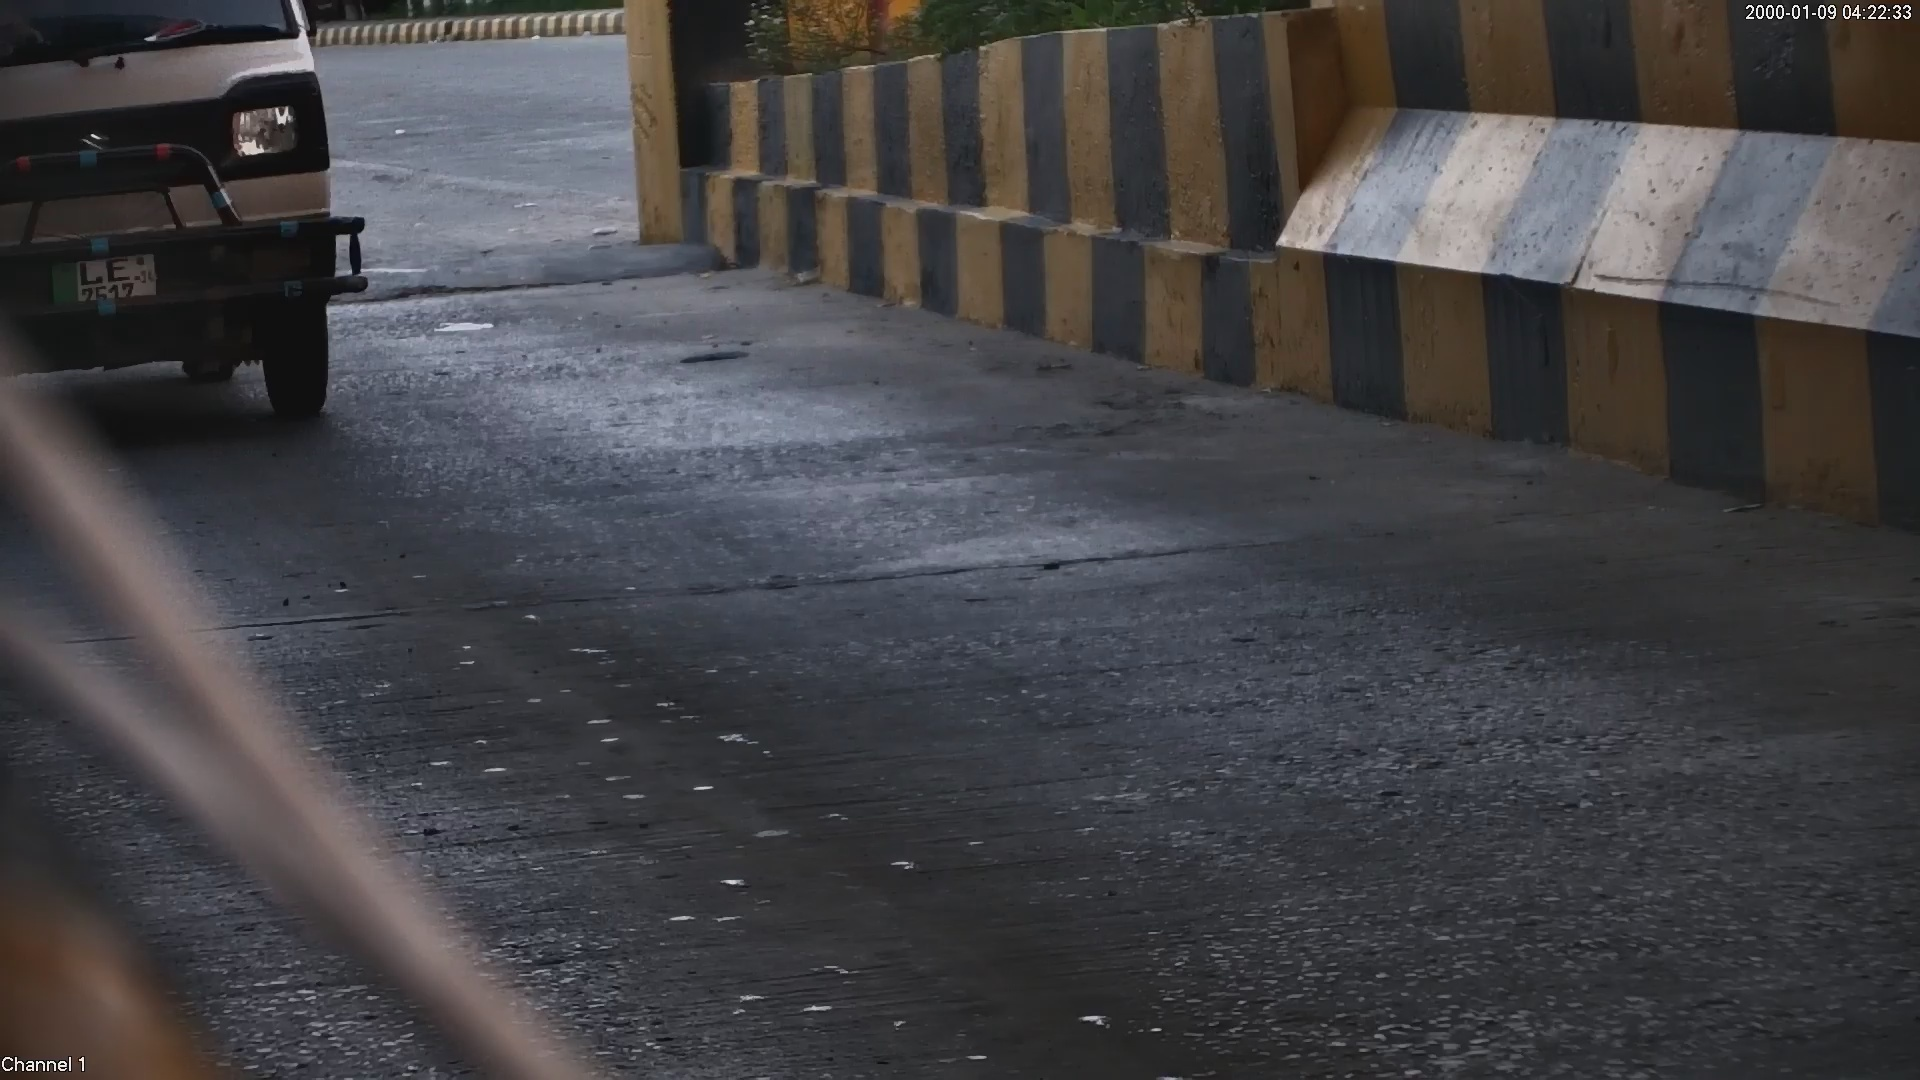Number_Plate: (34, 242, 182, 316)
Undefined: (208, 81, 326, 168)
